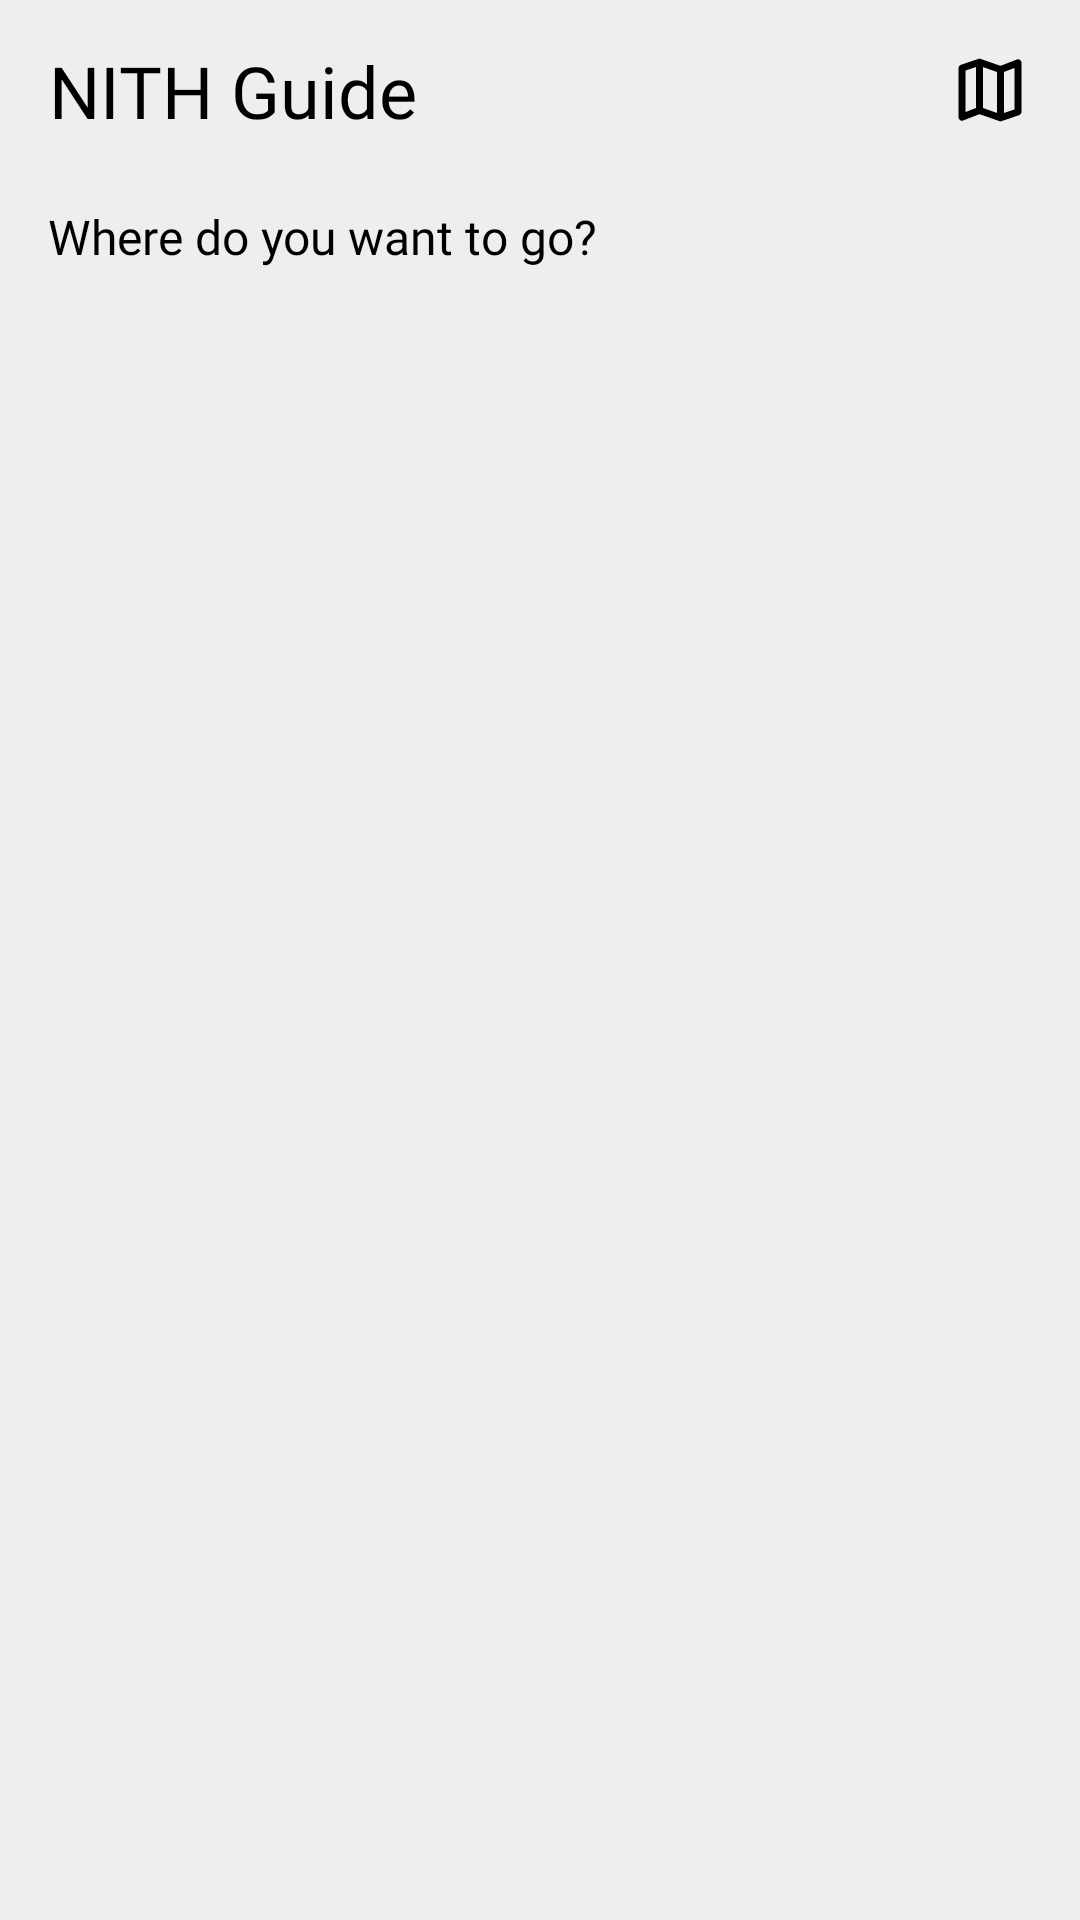

Icons on this 1080*1920 Android screen, each with the point to tap as (x,y):
map: (990,90)
